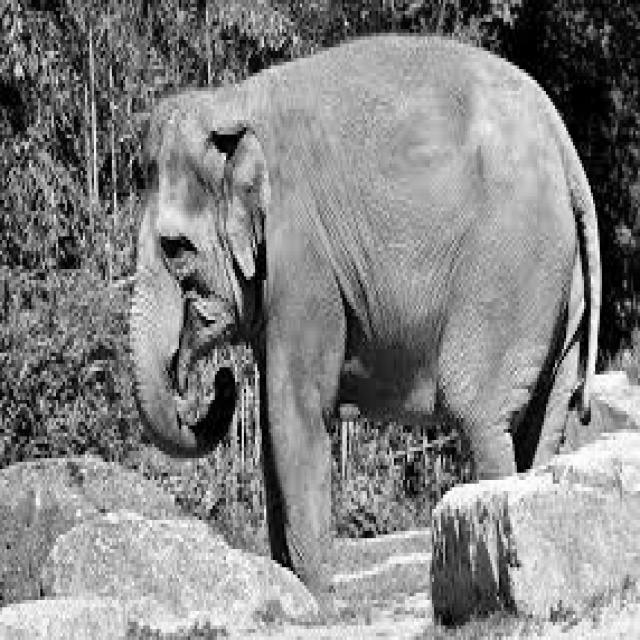Elephant: (125, 29, 602, 611)
